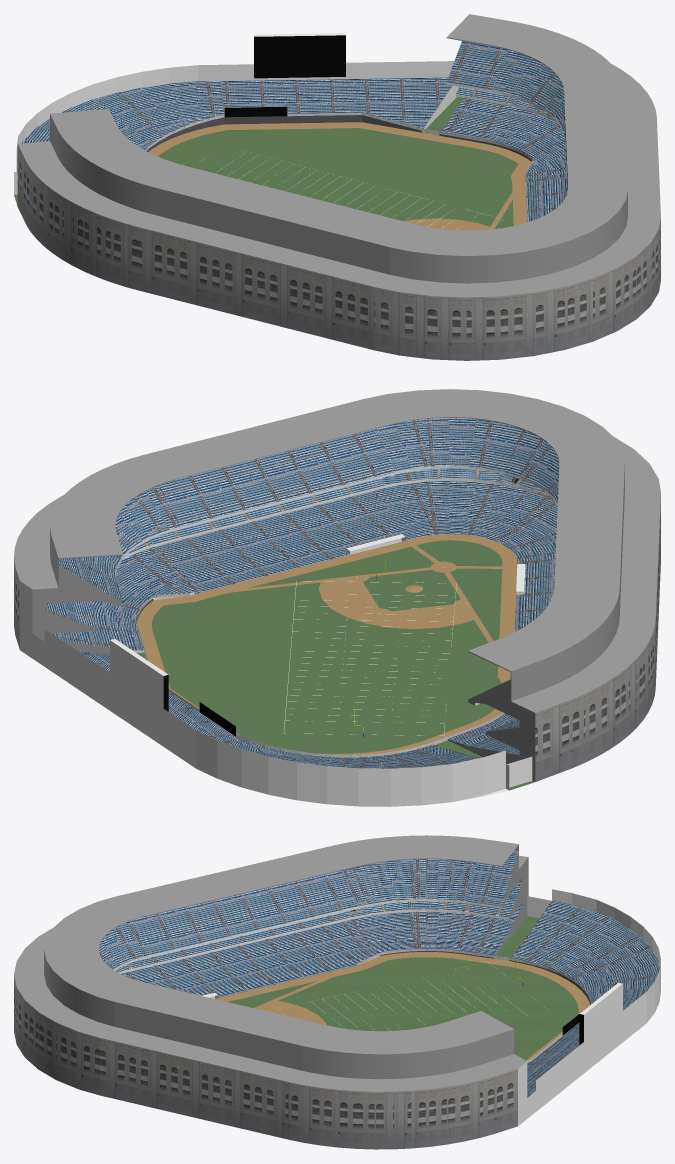
File: estadio-yankees.fbx
The picture shows the model from 3 angles, top to bottom: view 1: azimuth 30°, elevation 25°; view 2: azimuth 150°, elevation 25°; view 3: azimuth 270°, elevation 25°; orthographic projection. The views are drawn at different scales.
Visible parts, largest first — view 1: Root_mesh94; view 2: Root_mesh94; view 3: Root_mesh94.
Part boxes in pixels (x1,y1,x2,y2): Root_mesh94: (14, 14, 660, 360); Root_mesh94: (14, 389, 660, 806); Root_mesh94: (14, 835, 660, 1149).
Size of the model in its own units: 21105 by 3451 by 23637.
17 materials, 10 textured.
